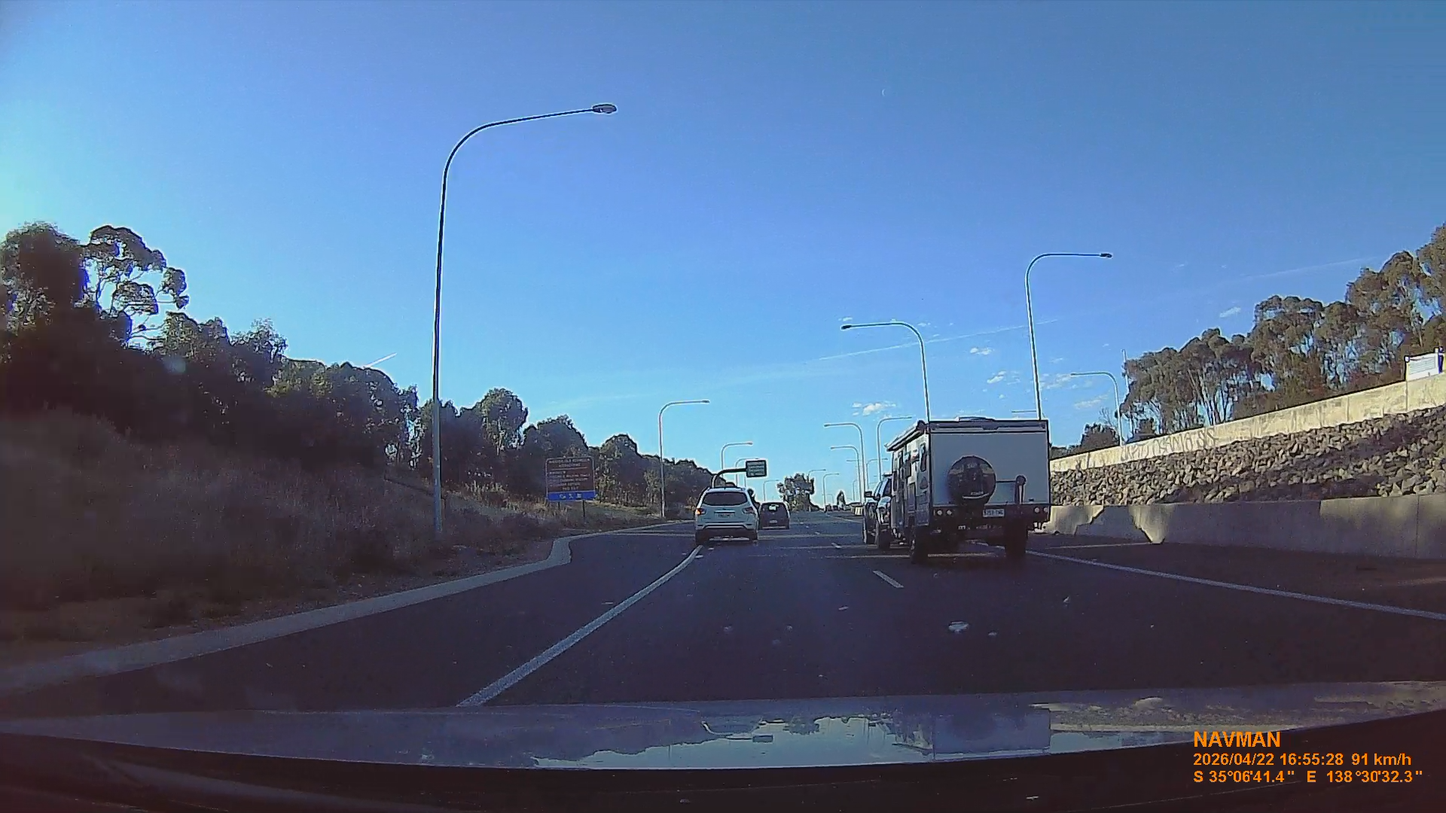road barriers: (1051, 491, 1444, 556)
